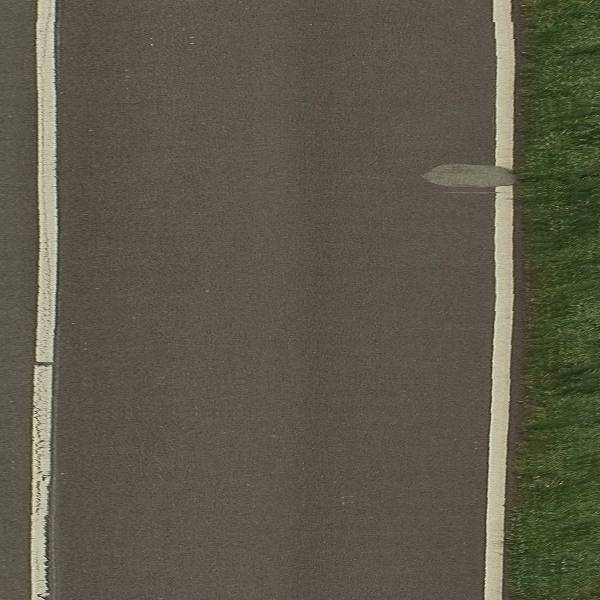road_damage: (413, 154, 523, 199)
